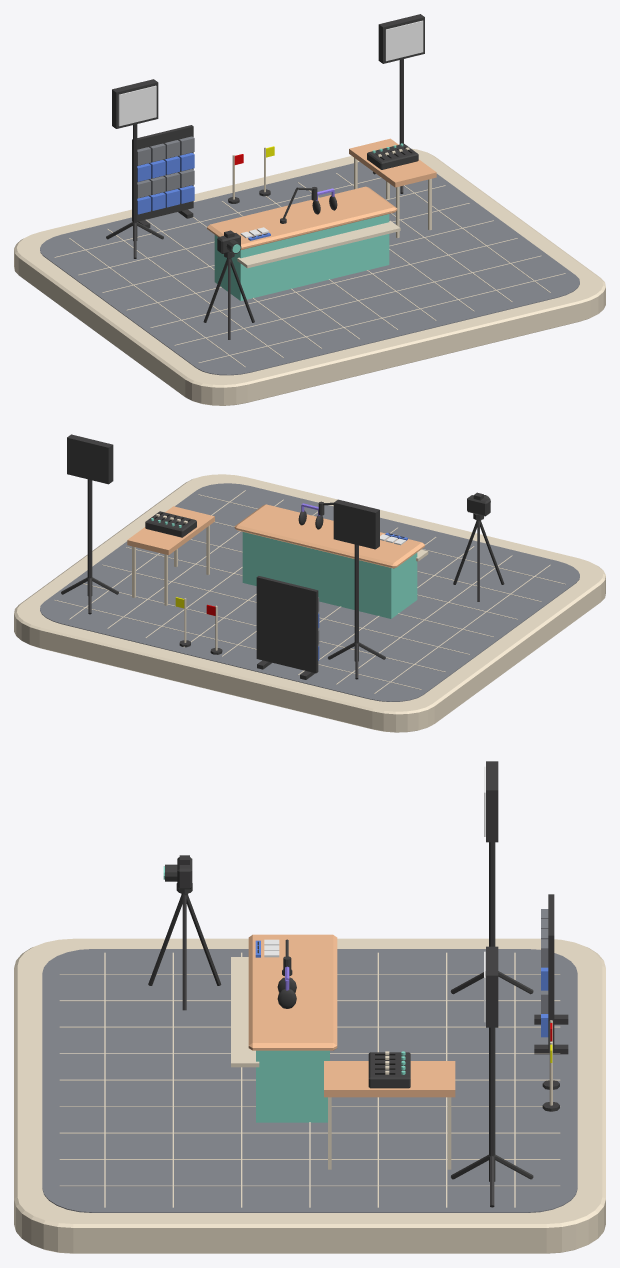
The model's file is room.fbx.
3 views of the same model, one above another, from view 1: azimuth 30°, elevation 25°; view 2: azimuth 150°, elevation 25°; view 3: azimuth 270°, elevation 25° (orthographic). The views are drawn at different scales.
Parts seen in each view (by area): view 1: COM-02 Floor Surface, COM-01 Rounded Base Direct, Counter body, Countertop, Top, Visitor shelf, Panel, Diffuser, Diffuser.001, Audio console, Light panel, Light panel.001 (+1 smaller); view 2: COM-02 Floor Surface, COM-01 Rounded Base Direct, Counter body, Panel, Countertop, Top, Light panel, Light panel.001, Audio console, Pole.001, Pole; view 3: COM-02 Floor Surface, COM-01 Rounded Base Direct, Countertop, Counter body, Top, Visitor shelf, Audio console, Light panel, Light panel.001, Panel, Grout X.008, Grout X.006 (+4 smaller).
Part boxes in pixels (x1,y1,x2,y2): COM-02 Floor Surface: (40,162,579,375); COM-01 Rounded Base Direct: (14,148,605,405); Counter body: (214,214,389,300); Countertop: (207,186,397,249); Top: (349,138,436,238); Visitor shelf: (237,220,400,268); Panel: (132,125,193,221); Diffuser: (118,85,156,126); Diffuser.001: (385,20,423,61); Audio console: (367,143,418,169); Light panel: (112,79,158,128); Light panel.001: (378,14,424,63); COM-02 Floor Surface: (40,483,579,701); COM-01 Rounded Base Direct: (14,474,605,732); Counter body: (242,532,417,618); Panel: (256,576,318,673); Countertop: (234,504,424,568); Top: (127,506,214,605); Light panel: (333,499,379,549); Light panel.001: (67,434,113,484); Audio console: (145,511,196,537); Pole.001: (87,479,92,595); Pole: (354,544,358,661); COM-02 Floor Surface: (42,949,577,1212); COM-01 Rounded Base Direct: (14,938,605,1253); Countertop: (248,934,337,1050); Counter body: (256,1050,329,1122); Top: (324,1061,455,1169); Visitor shelf: (231,957,259,1067); Audio console: (368,1052,410,1088); Light panel: (486,761,498,842); Light panel.001: (486,946,498,1027); Panel: (548,894,554,1051); Grout X.008: (60,1185,559,1186); Grout X.006: (59,1132,560,1133).
Size of the model in its own units: 600 by 250 by 520.
